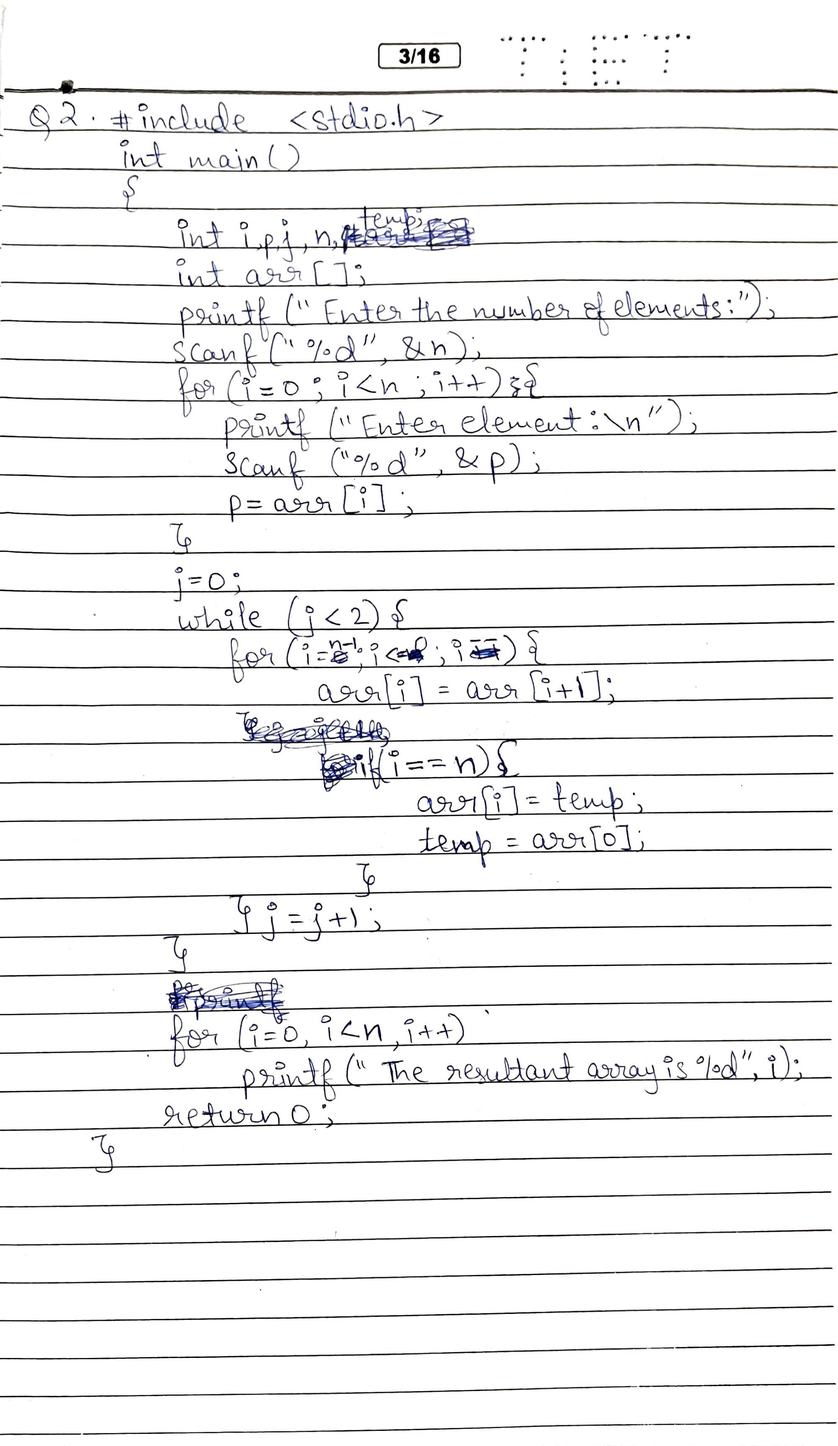cuttings: (230, 708, 396, 758), (164, 977, 295, 1027), (339, 215, 477, 258), (317, 752, 361, 796), (468, 643, 503, 661), (328, 649, 350, 666), (405, 646, 425, 664)
